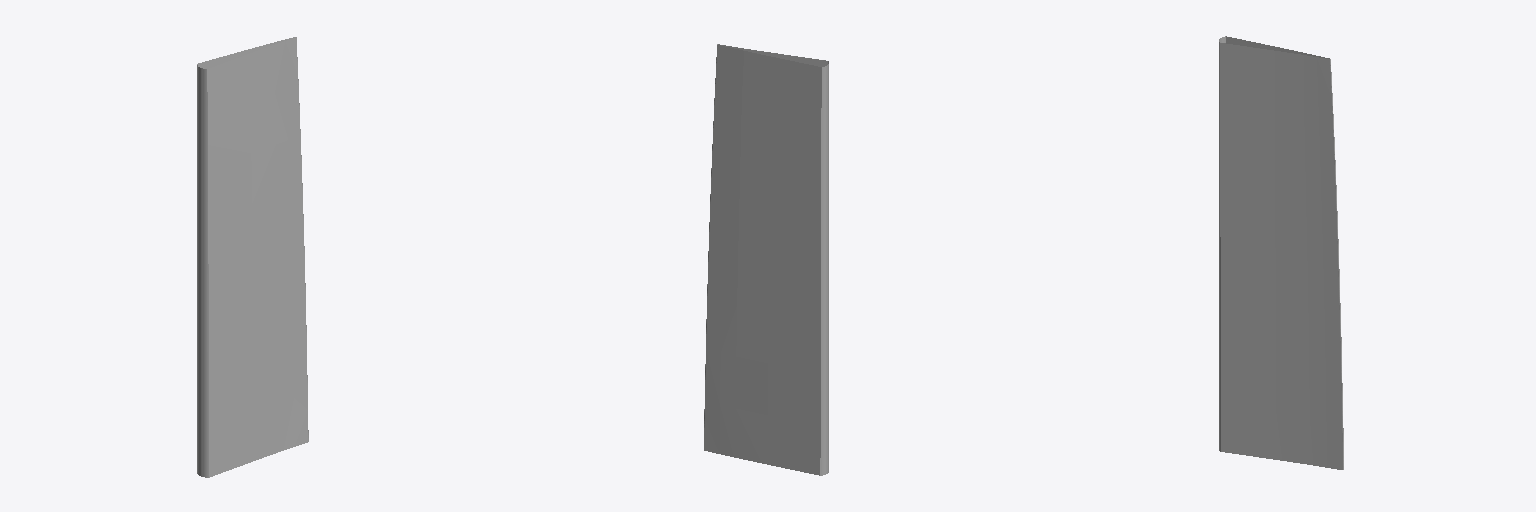
The model's file is Rflap.obj.
3 renders of one model, left to right at view 1: azimuth 30°, elevation 25°; view 2: azimuth 150°, elevation 25°; view 3: azimuth 330°, elevation 25°, orthographic.
Parts seen in each view (by area): view 1: mesh0, mesh1; view 2: mesh2, mesh1; view 3: mesh0, mesh1.
Boxes of the visible parts, box(x1,y1,x2,y2) form: mesh0: box(207, 38, 307, 477); mesh1: box(197, 65, 208, 477); mesh2: box(704, 45, 821, 475); mesh1: box(820, 61, 828, 475); mesh0: box(1220, 43, 1342, 469); mesh1: box(1219, 36, 1225, 451).
Bounding box in the file's own units: 0.0598 × 0.2 × 0.011.